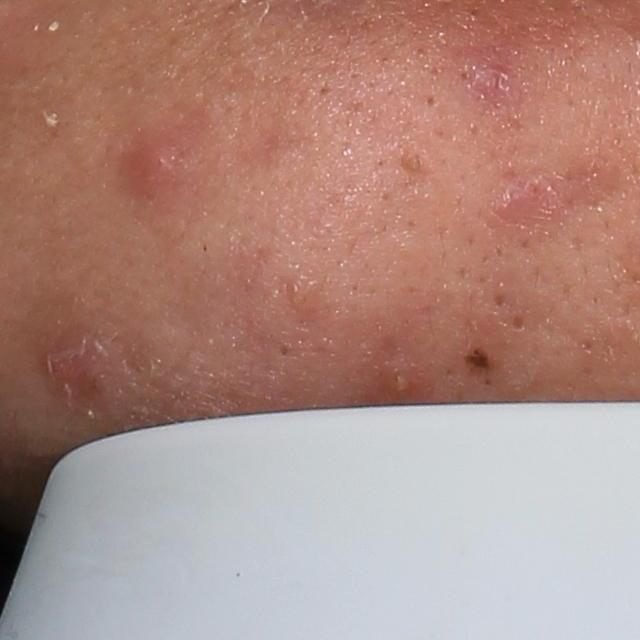comedo: (405, 153, 423, 172), (276, 344, 292, 361)
papule: (61, 342, 112, 407), (130, 135, 179, 195)
pustule: (381, 368, 417, 395)
